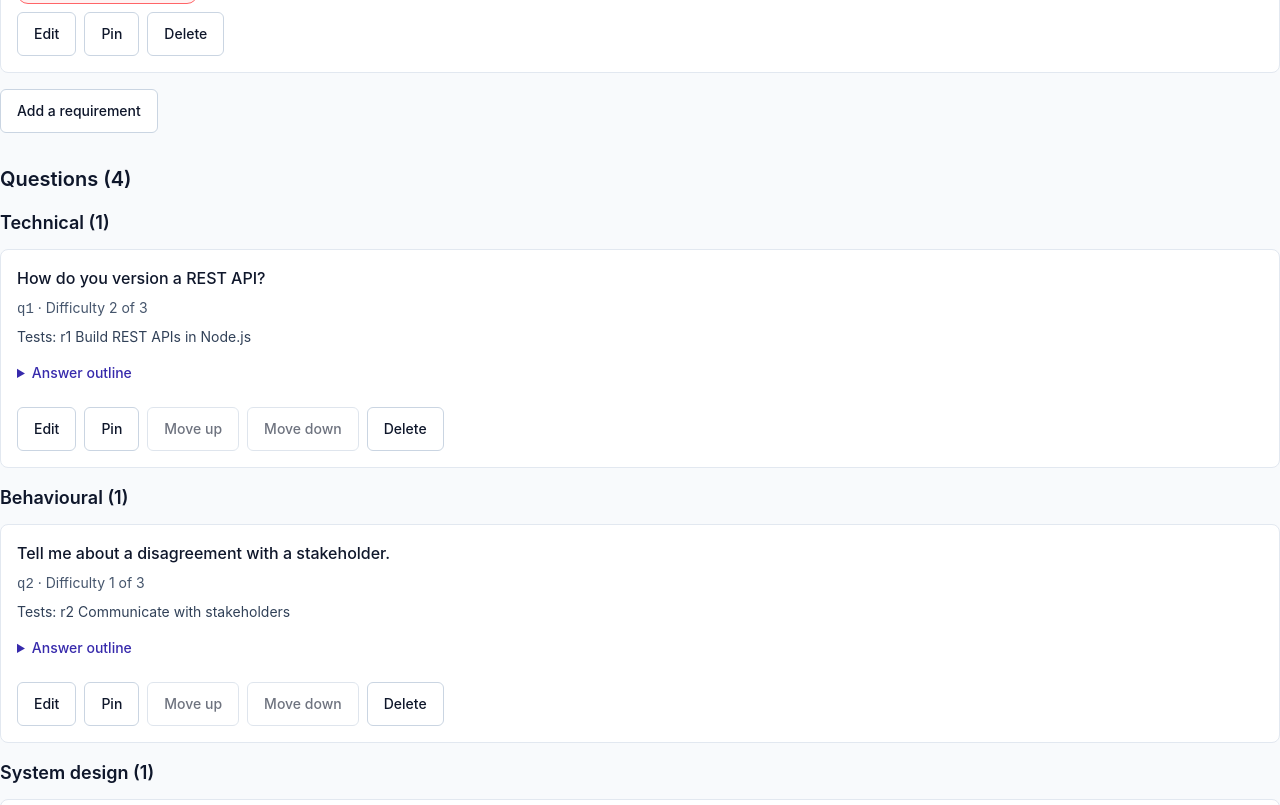
it: questions › moves a question to another category through the edit form
(page scrolled)
Click the button with aria-label "Edit question q1": click(47, 429) 17,407 -> 76,451
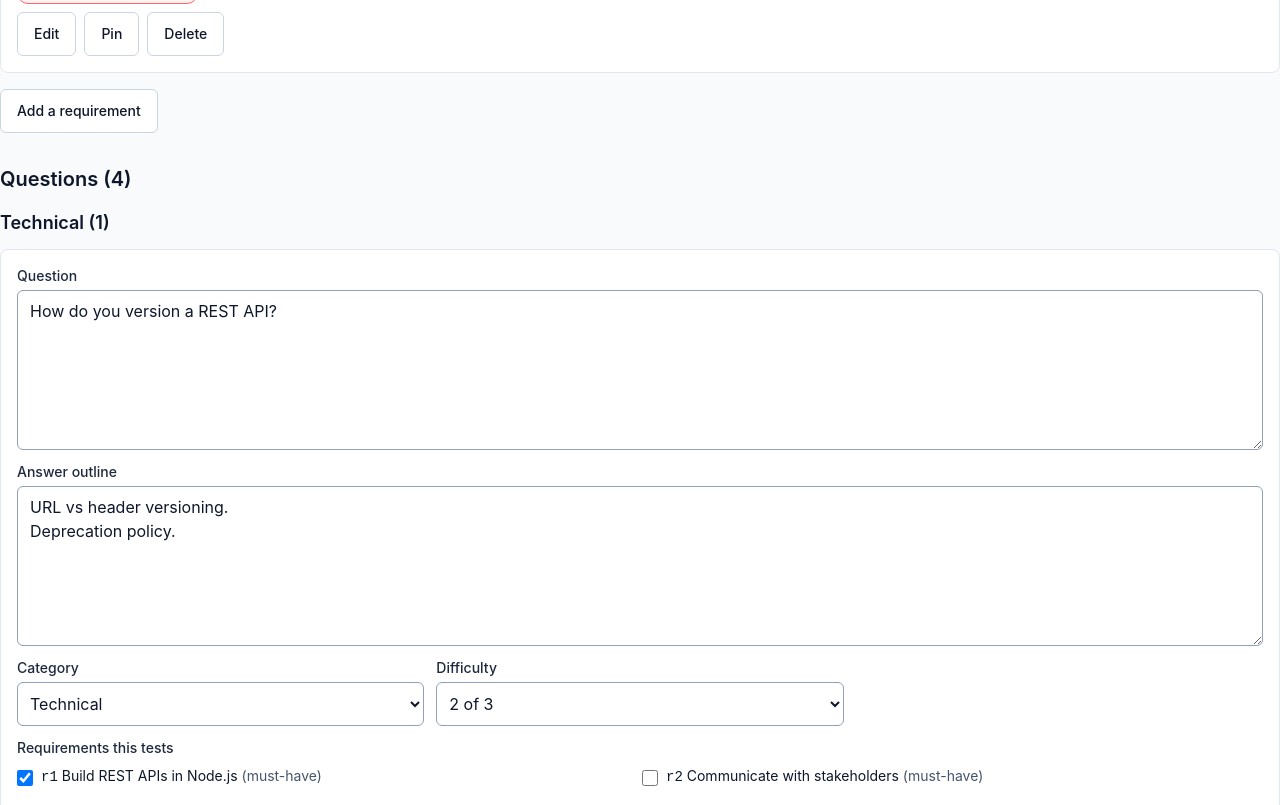
Select "Behavioural" in the dropdown labelled "Category": (221, 704) 17,682 -> 424,726
(page scrolled)
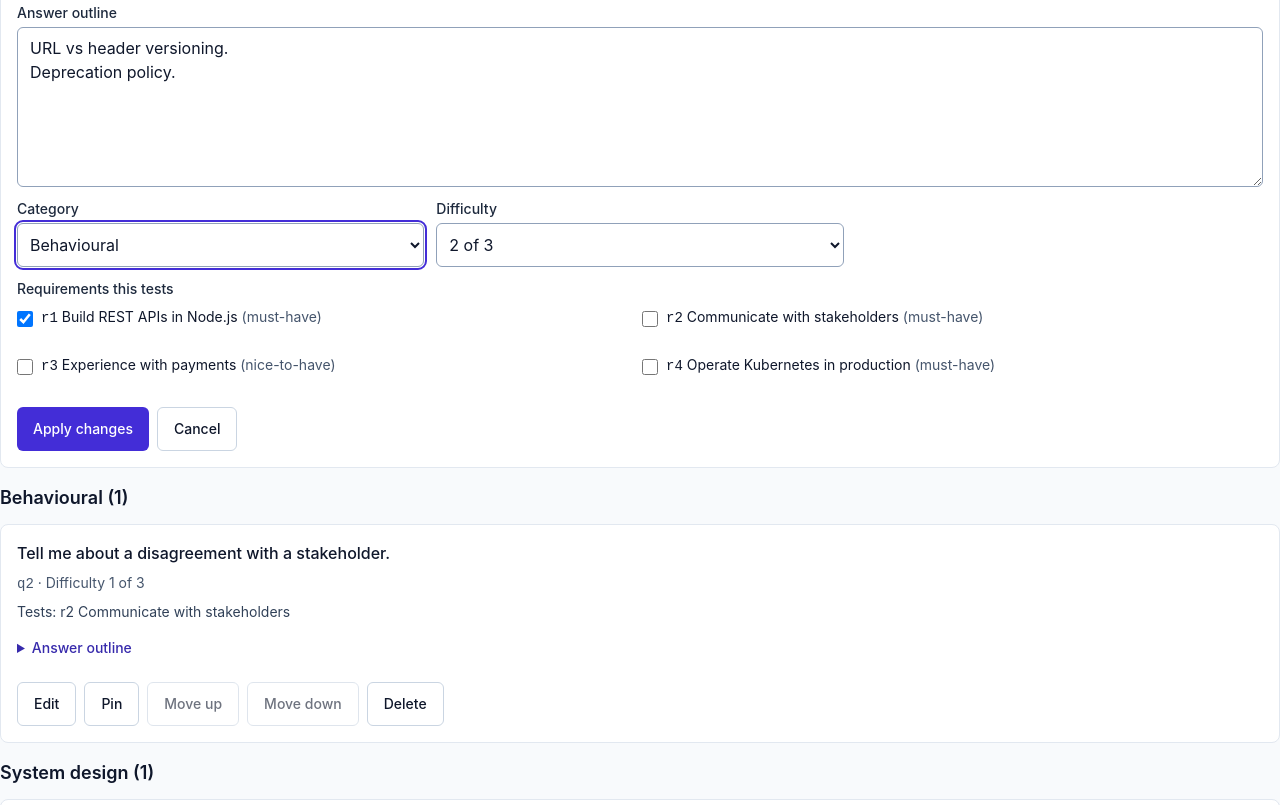
Click the button "Apply changes": click(83, 429) 17,407 -> 149,451
(page scrolled)
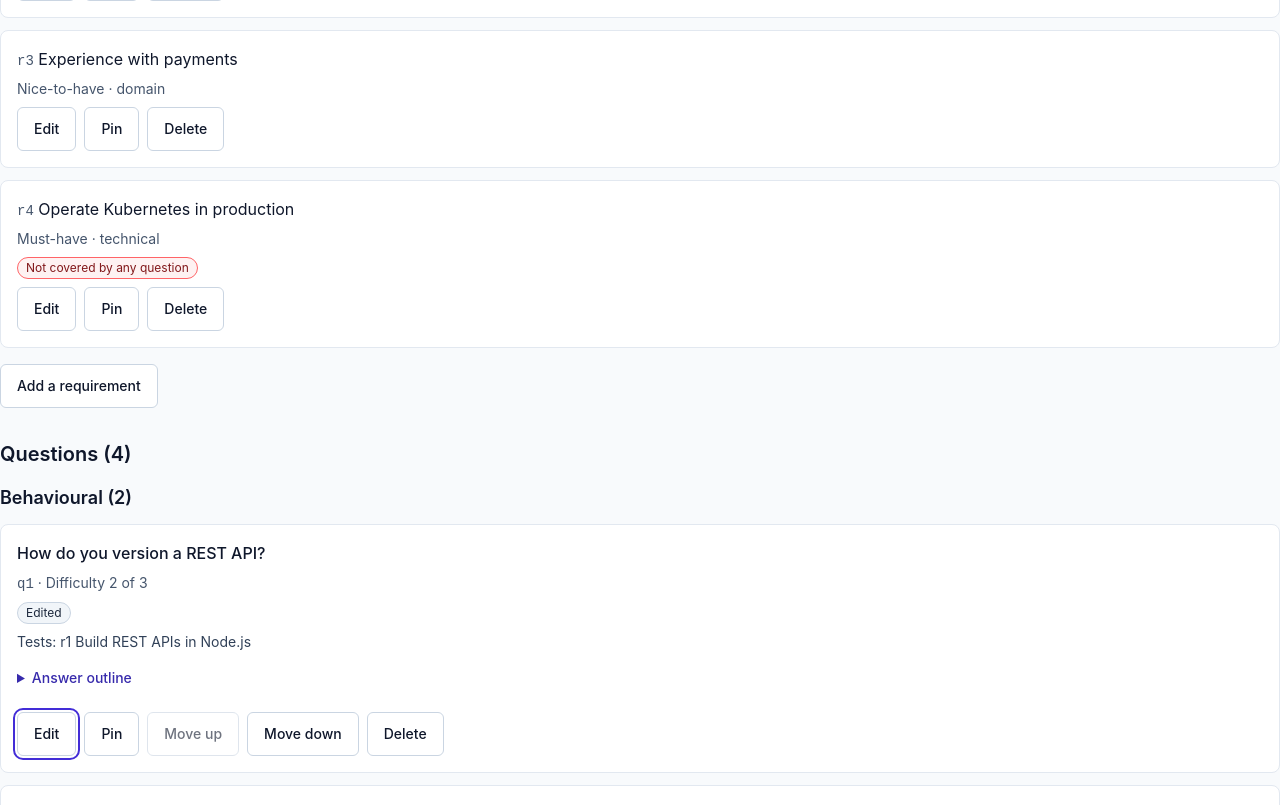
expect the text "How do you version a REST API?" is shown: met, box 17,543 -> 266,563
expect the heading "Behavioural (2)" is shown: met, box 0,487 -> 132,508
